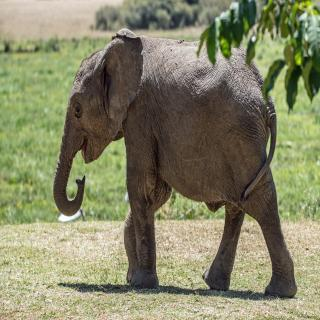Elephant: (50, 25, 304, 302)
